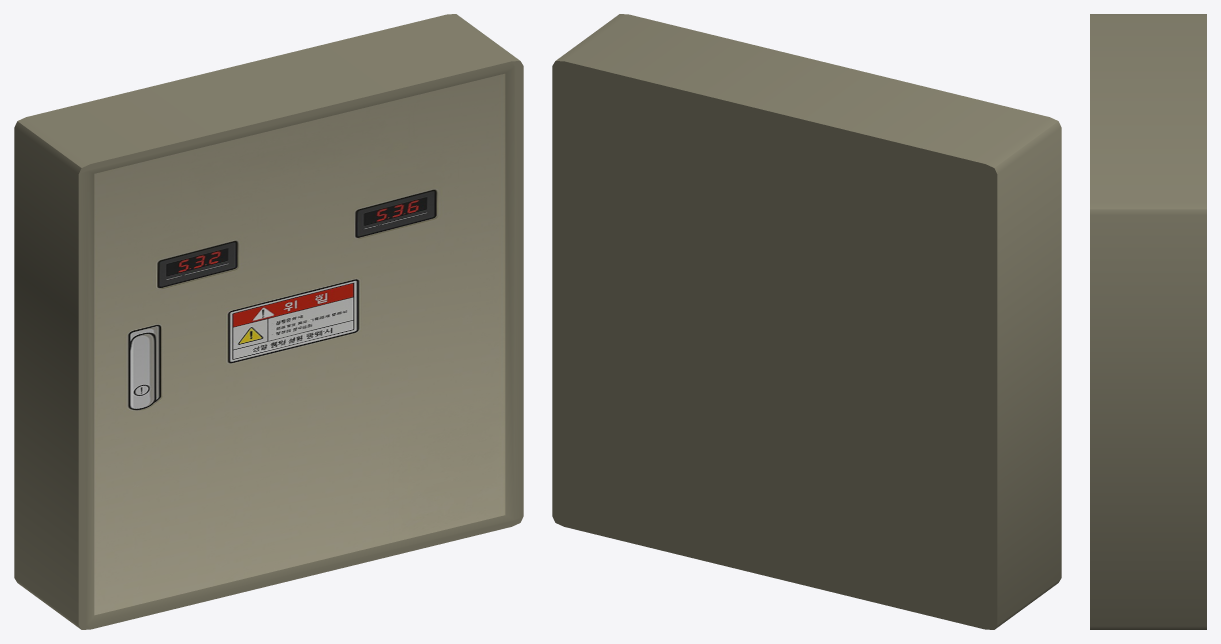
3 views of the same model, side by side, from view 1: azimuth 30°, elevation 25°; view 2: azimuth 150°, elevation 25°; view 3: azimuth 270°, elevation 25° (orthographic). The views are drawn at different scales.
Parts seen in each view (by area): view 1: RM1-WH04W040D010; view 2: RM1-WH04W040D010; view 3: RM1-WH04W040D010.
Boxes of the visible parts, bbox=[...] form: RM1-WH04W040D010: bbox=[14, 14, 523, 629]; RM1-WH04W040D010: bbox=[552, 14, 1061, 629]; RM1-WH04W040D010: bbox=[1090, 14, 1206, 629].
Size of the model in its own units: 0.4 by 0.4 by 0.1.
Materials: 2 (1 with a texture image).
